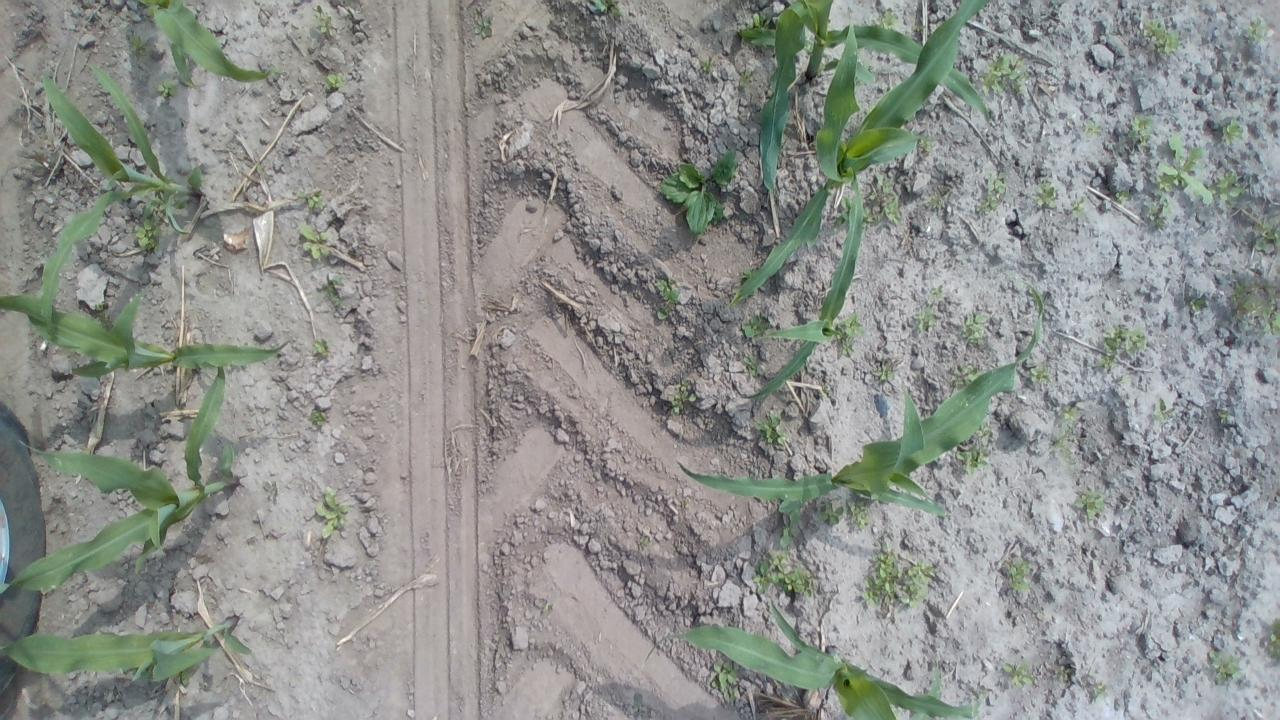Maize: (675, 278, 1043, 519), (726, 1, 988, 311), (1, 365, 240, 596), (740, 0, 990, 193), (41, 62, 206, 350), (639, 600, 983, 720), (0, 278, 295, 378), (740, 170, 864, 404), (1, 614, 252, 692), (138, 0, 284, 89), (909, 666, 941, 720)
Weeds: (658, 146, 741, 234), (859, 534, 934, 611), (1148, 132, 1214, 204), (1227, 278, 1280, 338), (752, 548, 814, 597), (1091, 322, 1147, 372), (977, 49, 1029, 96), (314, 485, 350, 540), (971, 170, 1008, 221), (664, 374, 700, 422), (1144, 17, 1180, 55), (1208, 649, 1244, 686), (836, 311, 864, 357), (1046, 422, 1076, 464), (1143, 190, 1174, 230), (1210, 170, 1248, 202), (312, 276, 346, 310), (1073, 485, 1106, 520), (140, 192, 188, 216), (654, 278, 680, 322), (299, 223, 330, 258), (755, 412, 786, 446), (1253, 216, 1280, 255), (1003, 558, 1032, 594), (960, 310, 989, 345), (310, 4, 338, 40), (954, 446, 988, 475), (1127, 114, 1155, 146), (846, 498, 873, 530), (709, 660, 737, 690), (1004, 660, 1035, 687), (911, 305, 939, 334), (1035, 178, 1060, 210), (133, 218, 159, 246), (740, 315, 769, 340), (1153, 394, 1176, 424), (881, 193, 903, 224), (946, 364, 977, 386), (1220, 118, 1244, 146), (296, 185, 326, 207), (820, 500, 844, 527), (871, 362, 898, 385), (1266, 617, 1280, 661), (1246, 17, 1267, 43), (472, 16, 494, 39), (154, 78, 178, 99), (924, 283, 948, 303), (324, 72, 350, 90), (1030, 362, 1050, 385), (860, 200, 876, 228), (834, 195, 850, 223), (872, 11, 898, 28), (1080, 118, 1102, 138), (588, 0, 618, 14), (129, 34, 149, 54), (741, 356, 760, 377), (697, 55, 717, 74), (1051, 662, 1072, 680), (978, 420, 992, 447), (780, 526, 797, 548), (737, 64, 752, 88), (876, 170, 894, 190), (1091, 681, 1107, 702), (1072, 196, 1088, 217), (312, 338, 330, 356), (1060, 404, 1078, 422), (924, 195, 945, 210), (309, 407, 325, 426), (1188, 298, 1206, 313), (1115, 189, 1133, 204), (722, 688, 738, 704), (750, 12, 764, 29), (1217, 410, 1231, 427), (1006, 268, 1021, 282), (919, 136, 933, 150), (637, 535, 649, 550), (739, 268, 753, 279), (94, 300, 106, 310), (1118, 374, 1128, 384), (542, 600, 550, 612), (911, 25, 926, 31), (682, 498, 688, 508)
